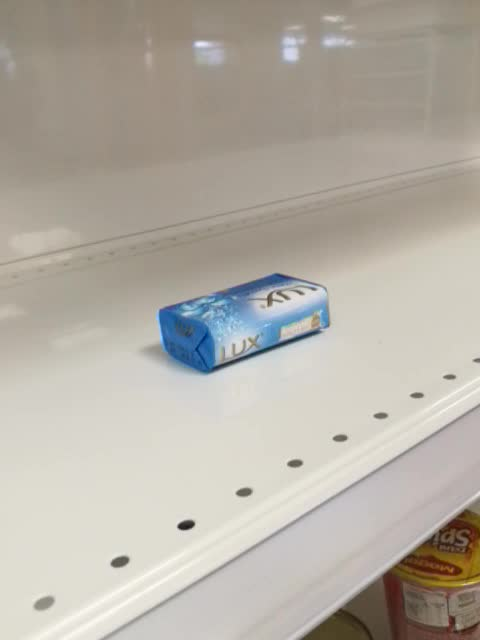soap: (158, 271, 332, 375)
